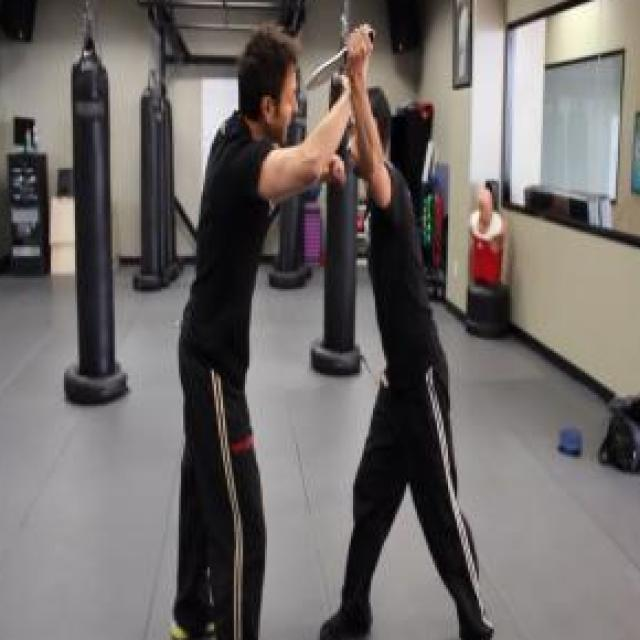knife: (302, 20, 378, 95)
